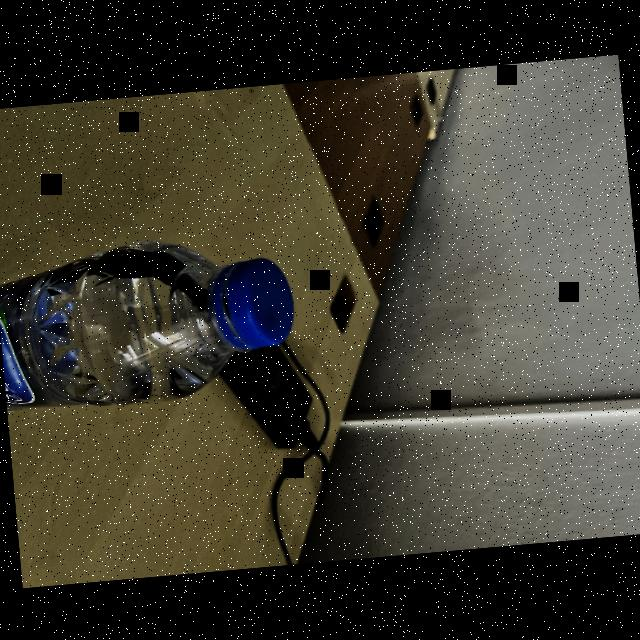plastic_bottle_cap: (220, 250, 300, 354)
